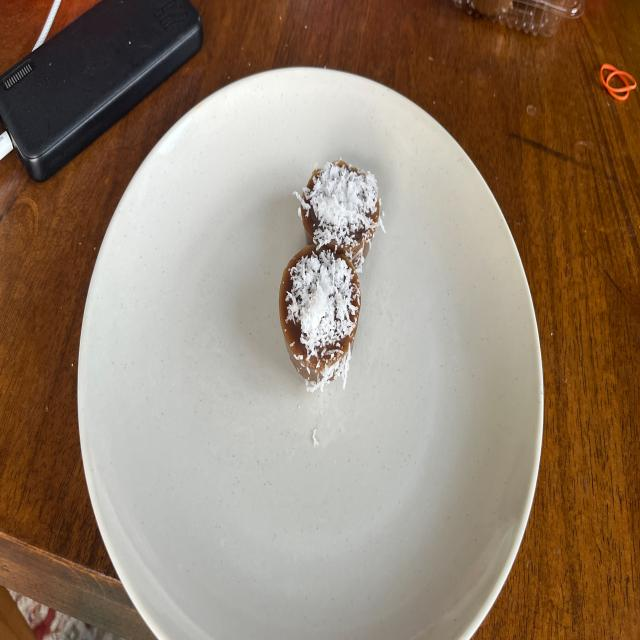Kuih lompang: (279, 244, 361, 389), (295, 160, 384, 271)
